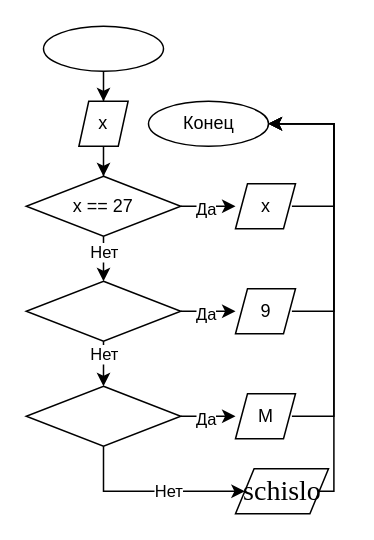
The diagram is 374 pixels wide and 540 high, and some of its shapes have lost their labels. The shapes that lost their labels are listed below. From the top down, each one's centre as x and y in pixels, then its label:
At [103,48]: "Начало".
At [103,310]: "x == 72".
At [103,415]: "x == 77".
